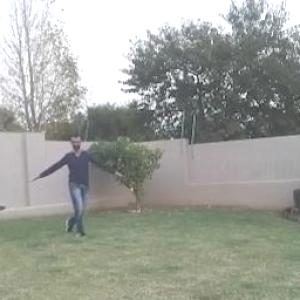land: (43, 125, 132, 232)
